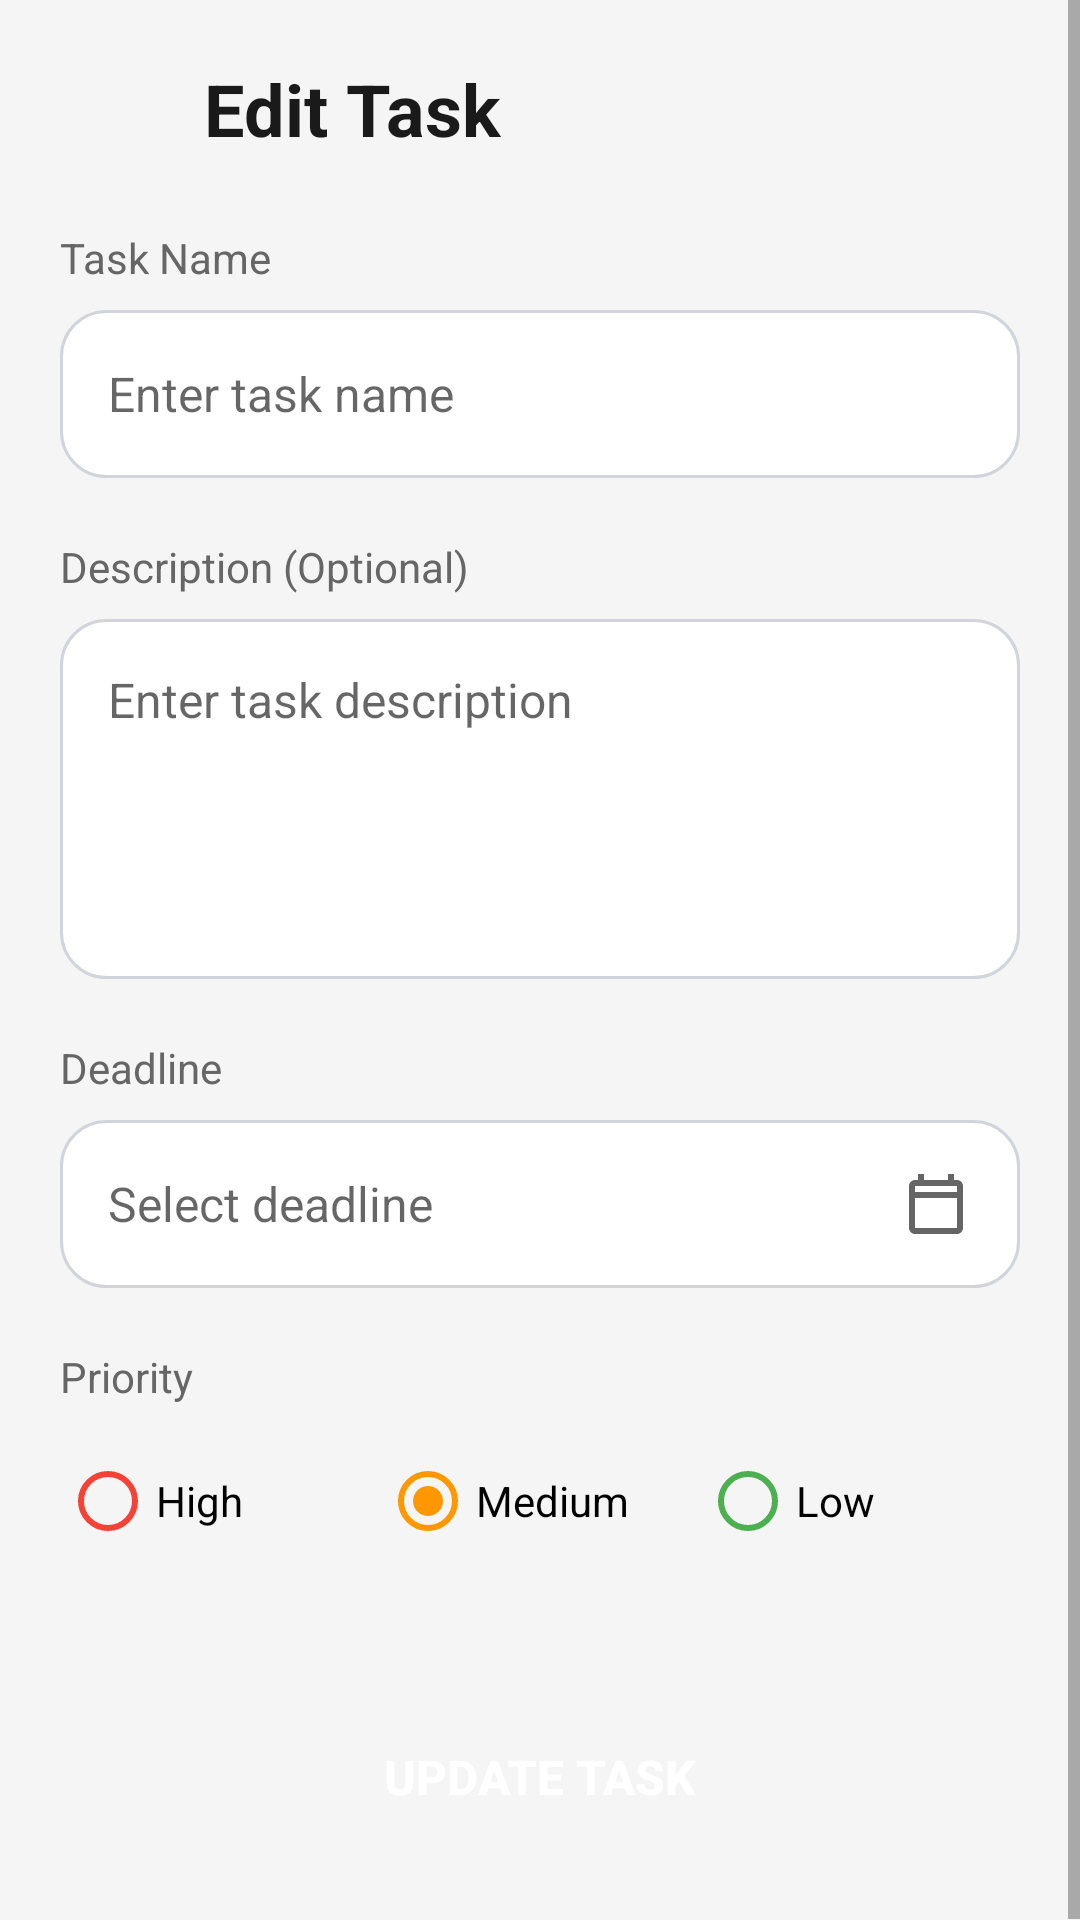

Icon click points for this 1080×1920 phone screenshot, format (x=x, y=y):
Calendar: (x=936, y=1204)
